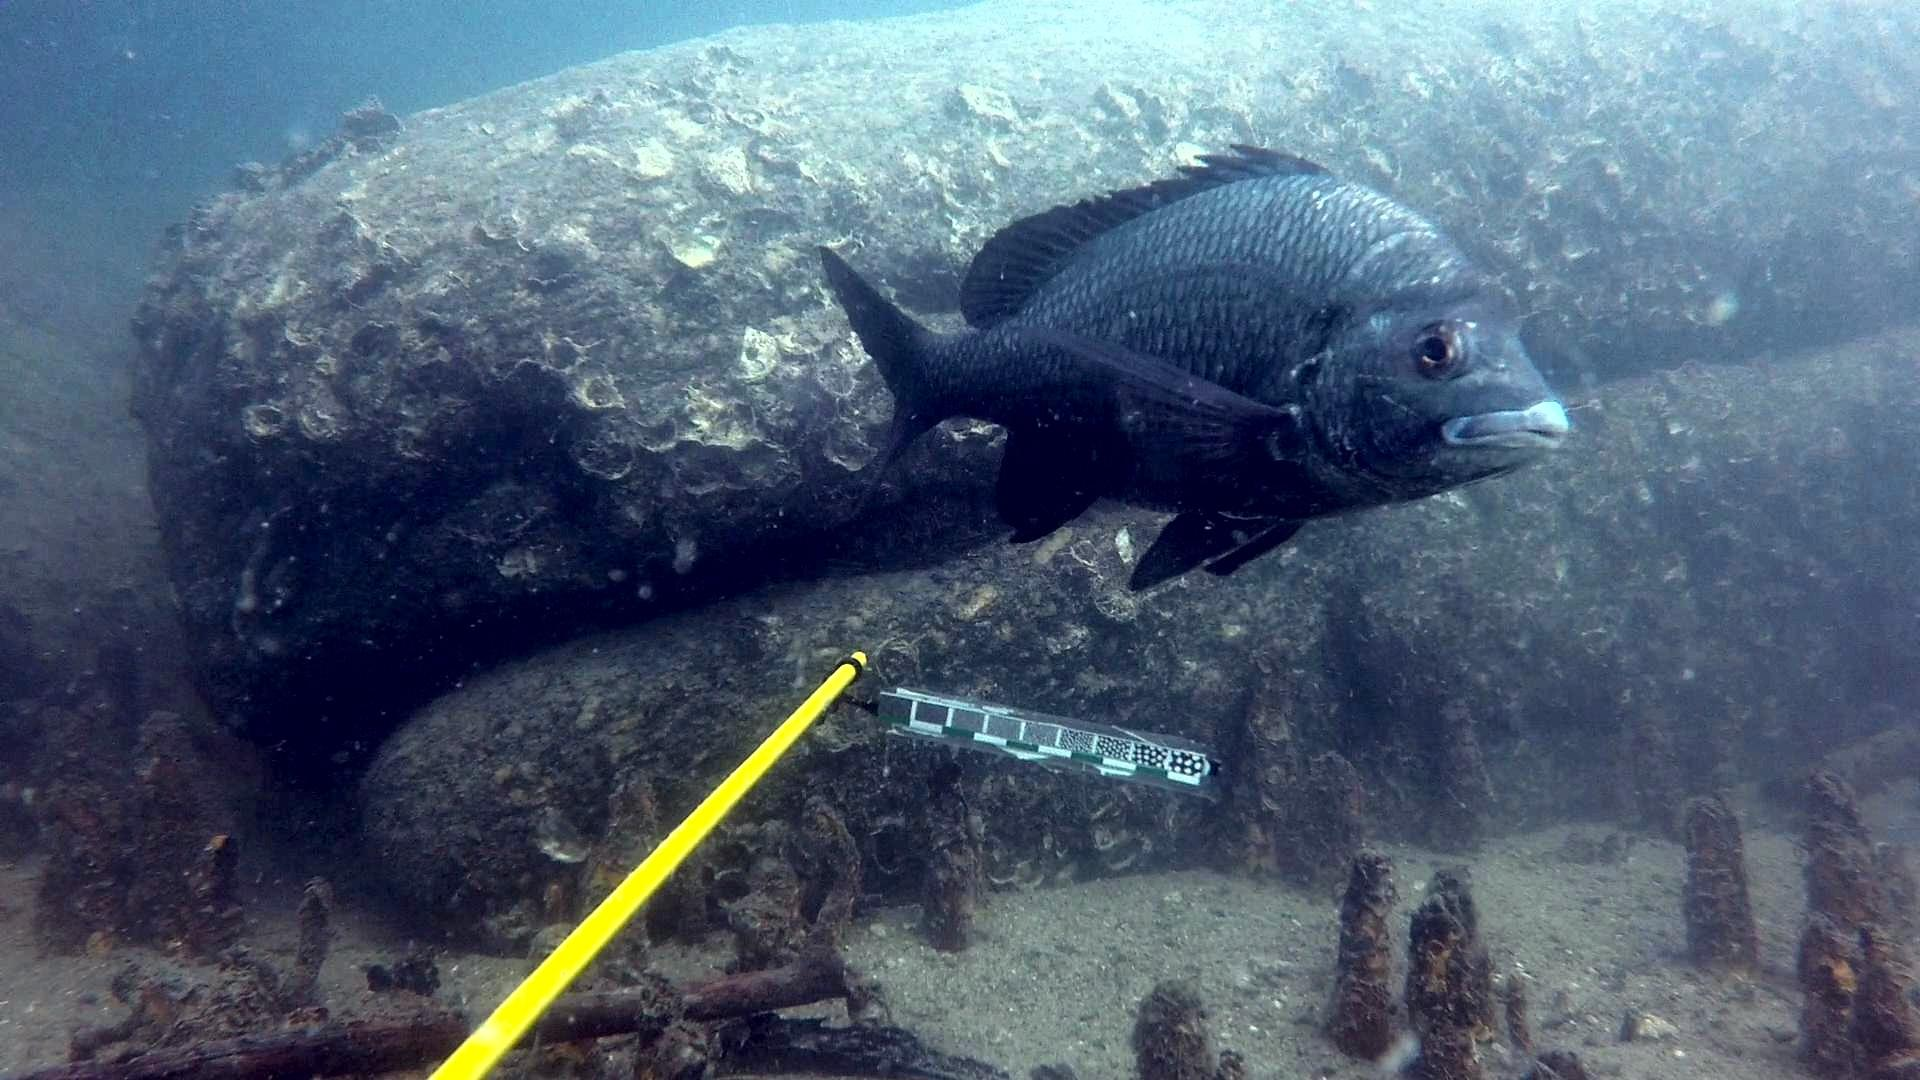acanthopagrus palmaris: (808, 133, 1574, 590)
